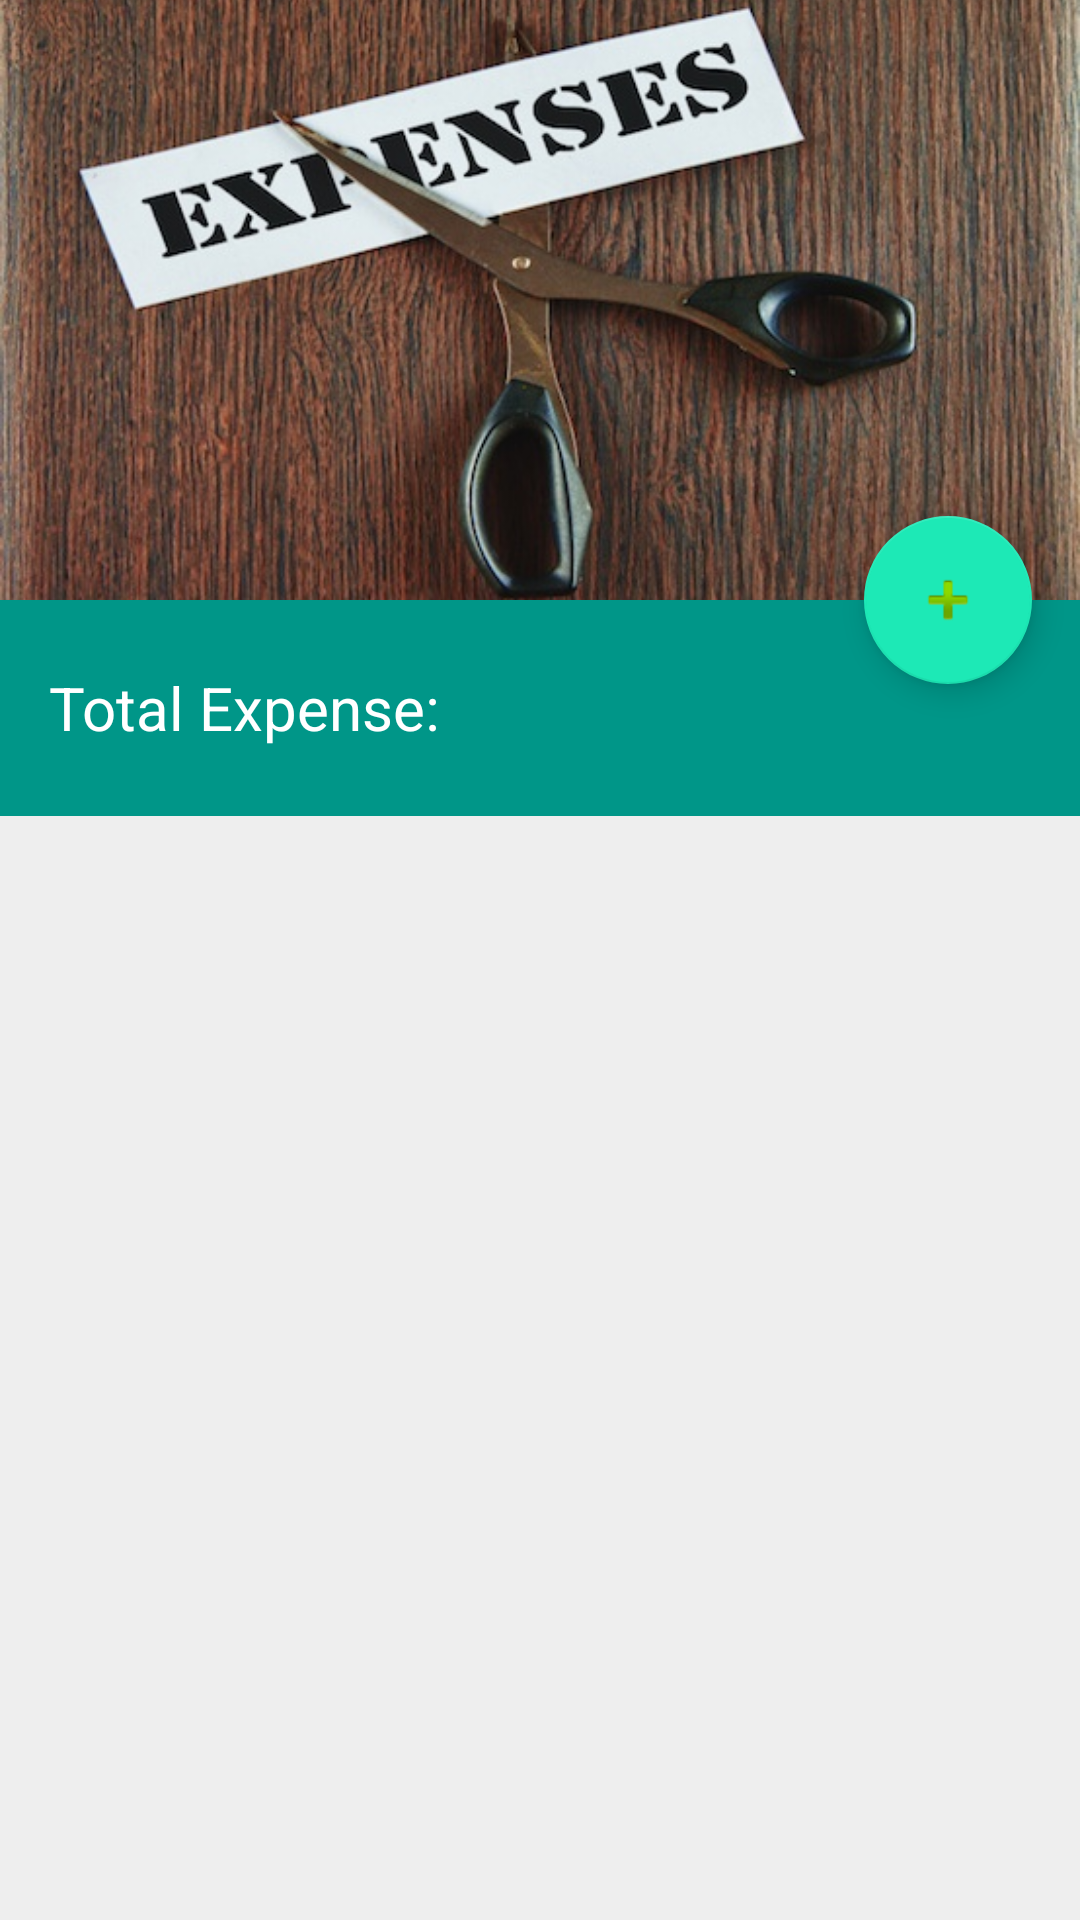

Icons on this 1080w x 1920h Android screen, each with the point to tap as point (x, y):
Add Expense Button: point (948, 600)
